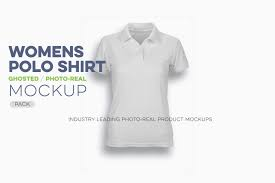C_polo shirt: (95, 27, 191, 148)
